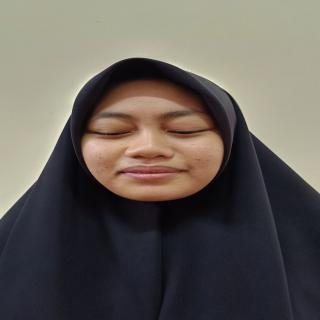Sedih: (71, 77, 241, 207)
